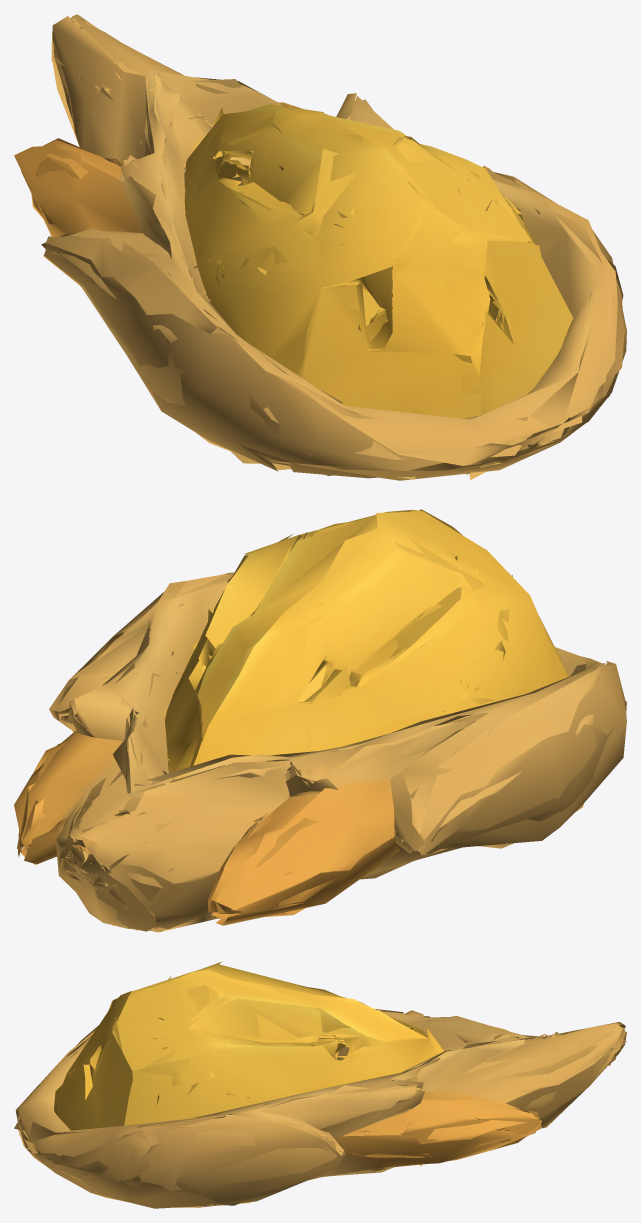
Rendered from golden-meteor-lod.glb.
3 views of the same model, one above another, from view 1: azimuth 30°, elevation 25°; view 2: azimuth 150°, elevation 25°; view 3: azimuth 270°, elevation 25° (orthographic). The views are drawn at different scales.
Parts seen in each view (by area): view 1: world; view 2: world; view 3: world.
Boxes of the visible parts, x1=… form: world: x1=14, y1=14, x2=626, y2=480; world: x1=14, y1=509, x2=626, y2=932; world: x1=14, y1=961, x2=626, y2=1208.
Bounding box in the file's own units: 0.085 × 0.0566 × 0.1454.
1 material, 1 textured.
